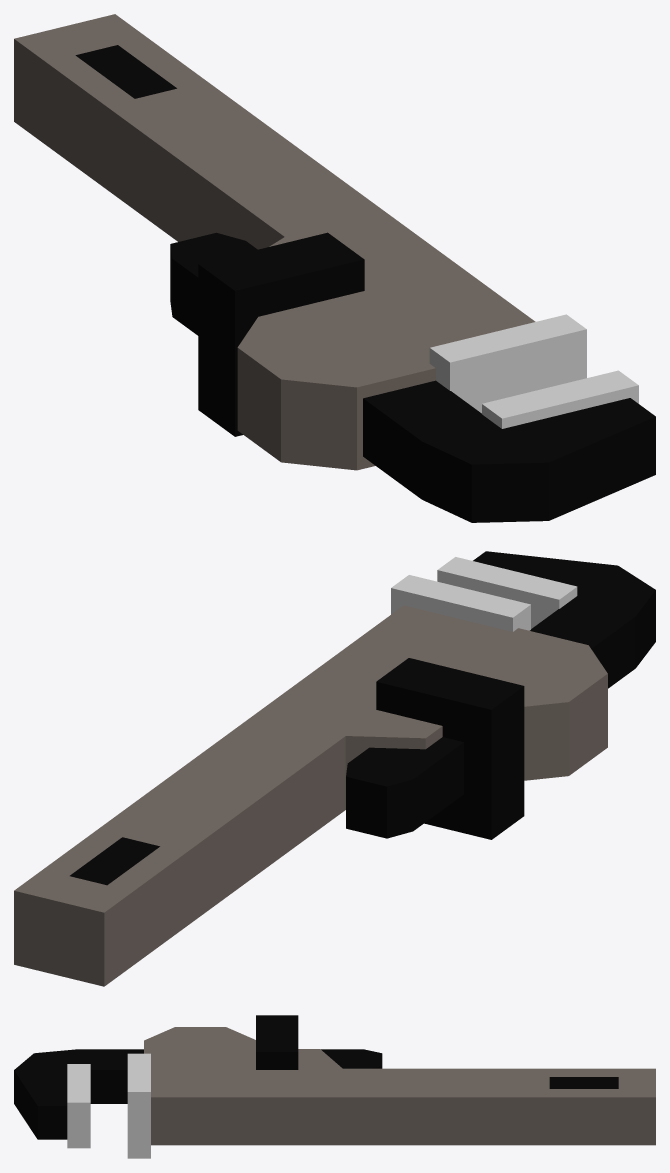
Rendered from Items_Wrench_01.fbx.
3 renders of one model, top to bottom at view 1: azimuth 30°, elevation 25°; view 2: azimuth 150°, elevation 25°; view 3: azimuth 270°, elevation 25°, orthographic. The views are drawn at different scales.
Visible parts, largest first — view 1: Items_Wrench_01; view 2: Items_Wrench_01; view 3: Items_Wrench_01.
Boxes of the visible parts, box(x1,y1,x2,y2) form: Items_Wrench_01: box(14, 14, 655, 522); Items_Wrench_01: box(14, 551, 655, 986); Items_Wrench_01: box(14, 1015, 655, 1158).
Bounding box in the file's own units: 29.29 × 15.46 × 107.
